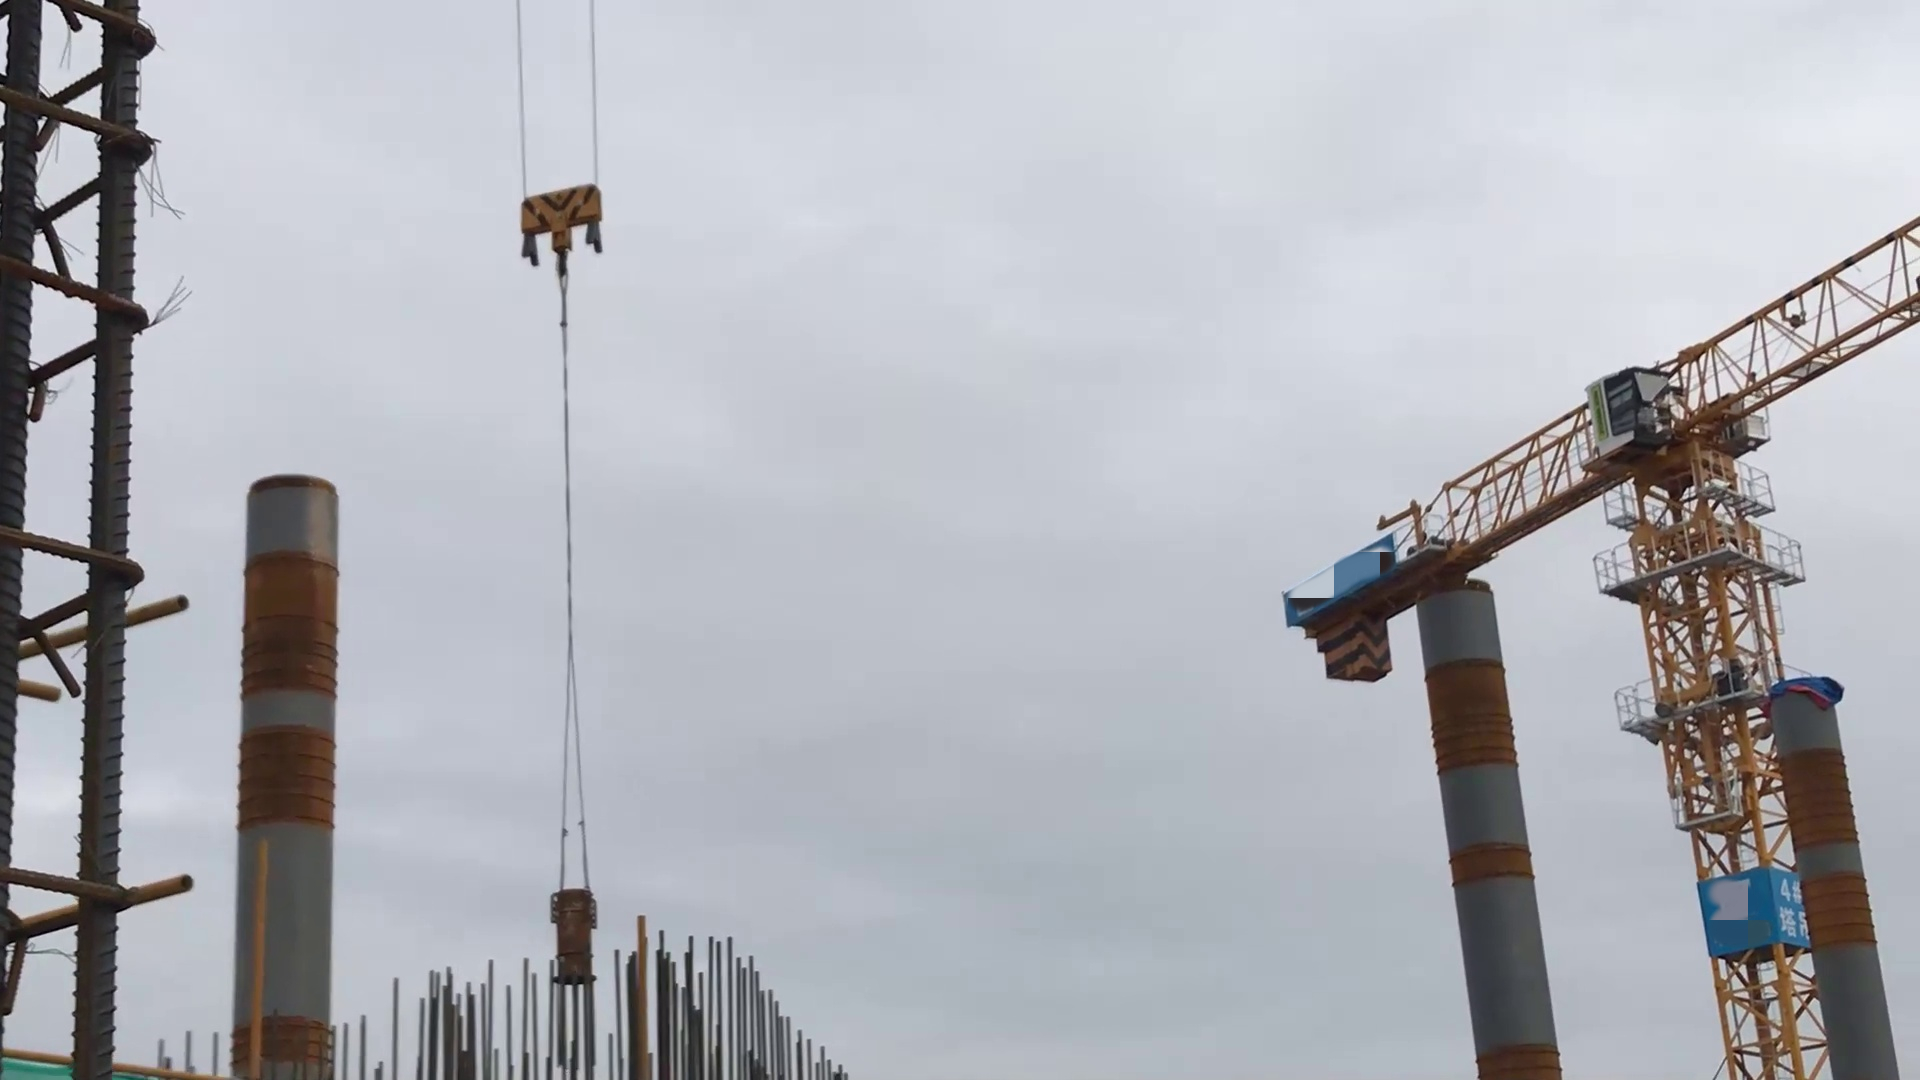hook: (518, 193, 607, 261)
